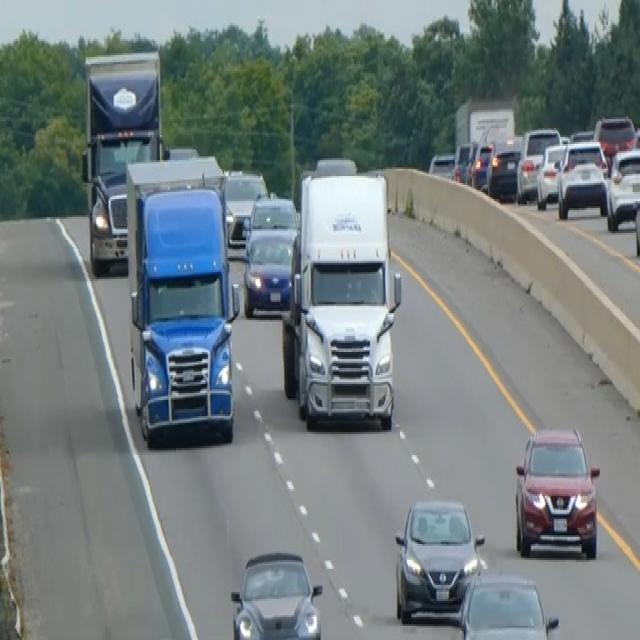car: (513, 423, 600, 560), (393, 494, 485, 622), (228, 548, 324, 638), (456, 569, 560, 638), (242, 224, 297, 316), (556, 137, 609, 219), (223, 166, 268, 246), (516, 125, 560, 202), (605, 144, 639, 231), (245, 192, 297, 238), (486, 135, 522, 201), (593, 112, 636, 165), (535, 140, 567, 208), (468, 139, 492, 190), (452, 139, 477, 183), (427, 150, 455, 180), (634, 180, 639, 258)
lorry: (123, 153, 240, 446), (279, 158, 402, 432)
